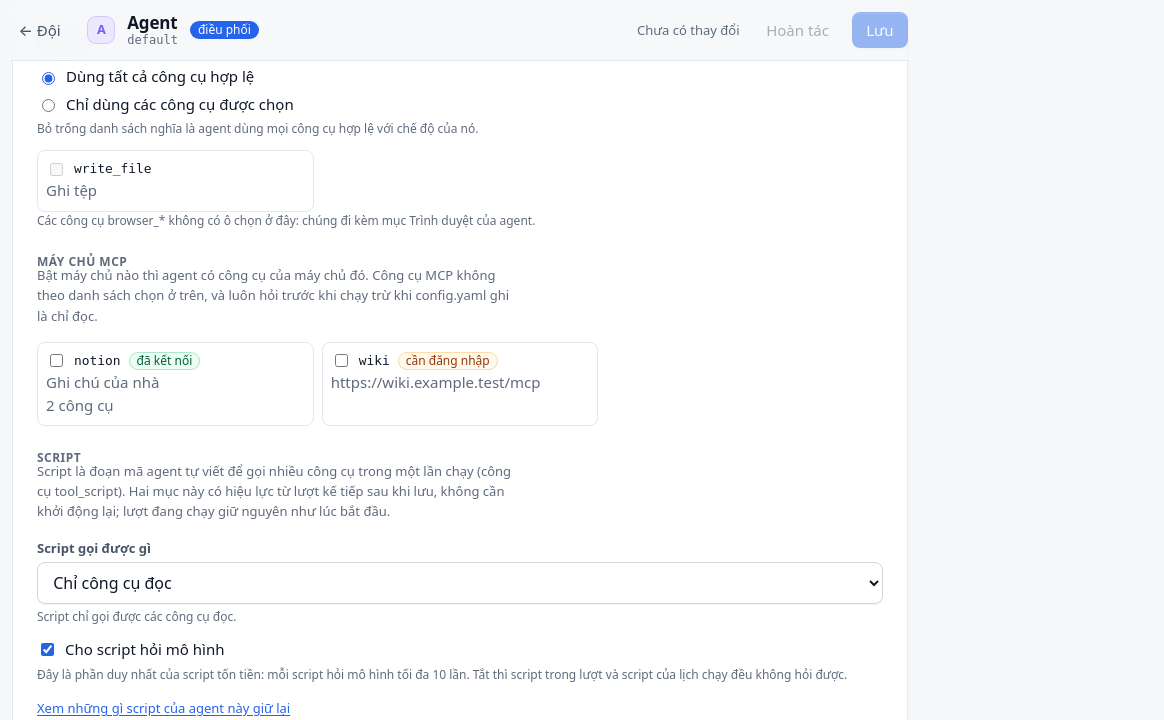
Test case: the MCP servers of an agent › hands a server to the agent with one tick and a save, and nothing else changes
This screenshot has width=1164, height=720.
(page scrolled)
Click the checkbox labelled "wiki cần đăng nhập" at (341, 361), box [335,354,348,367]
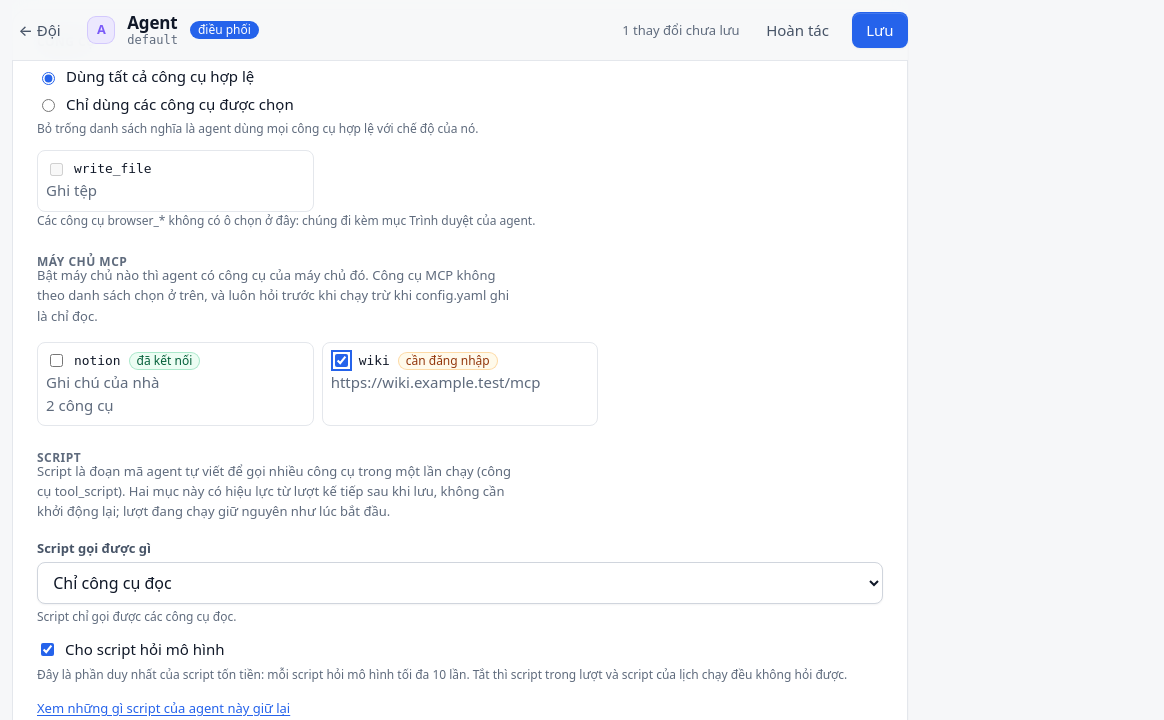
Click the checkbox labelled "notion đã kết nối" at (56, 361), box [50,354,63,367]
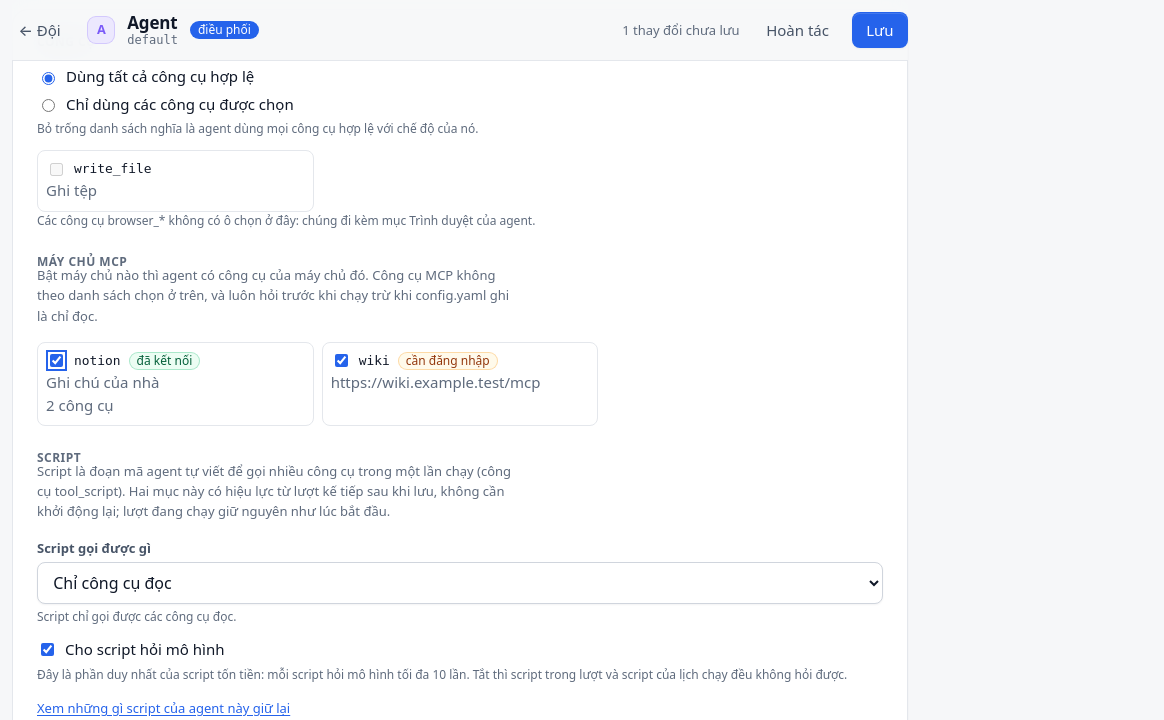
Click the button "Lưu" at (880, 30), box [852,12,908,48]
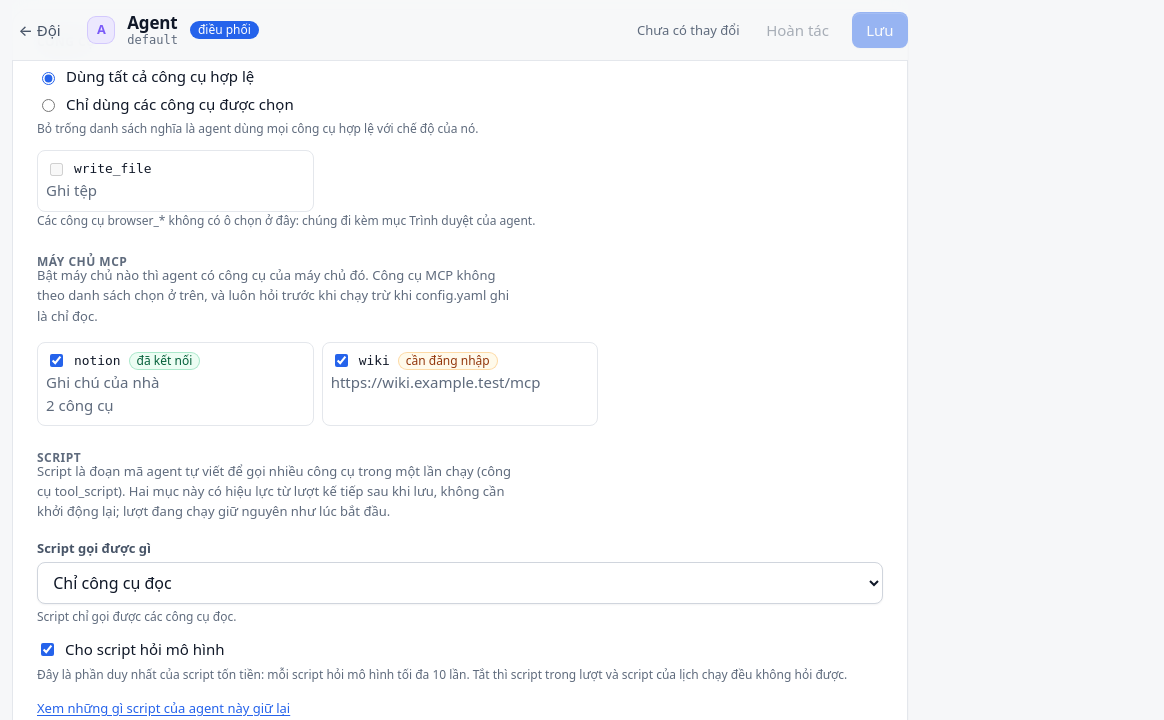
Result: the text "Chưa có thay đổi" is shown at [637,20,740,40]
